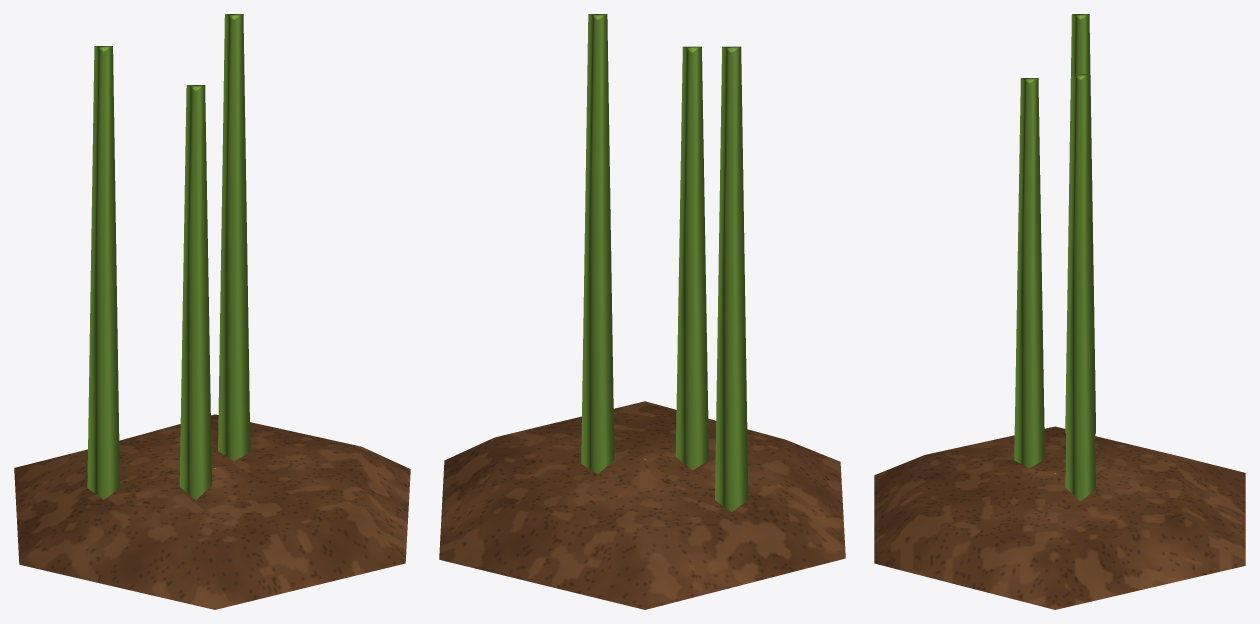
Rendered from plant-corn-2-far.glb.
3 renders of one model, left to right at view 1: azimuth 30°, elevation 25°; view 2: azimuth 150°, elevation 25°; view 3: azimuth 270°, elevation 25°, orthographic. The views are drawn at different scales.
Visible parts, largest first — view 1: plant-corn-2-far; view 2: plant-corn-2-far; view 3: plant-corn-2-far.
Part boxes in pixels (<box>): plant-corn-2-far: <box>14,14,410,609</box>; plant-corn-2-far: <box>439,14,845,609</box>; plant-corn-2-far: <box>874,14,1245,609</box>.
Bounding box in the file's own units: 0.84 × 0.99 × 0.7275.
2 materials, 1 textured.
